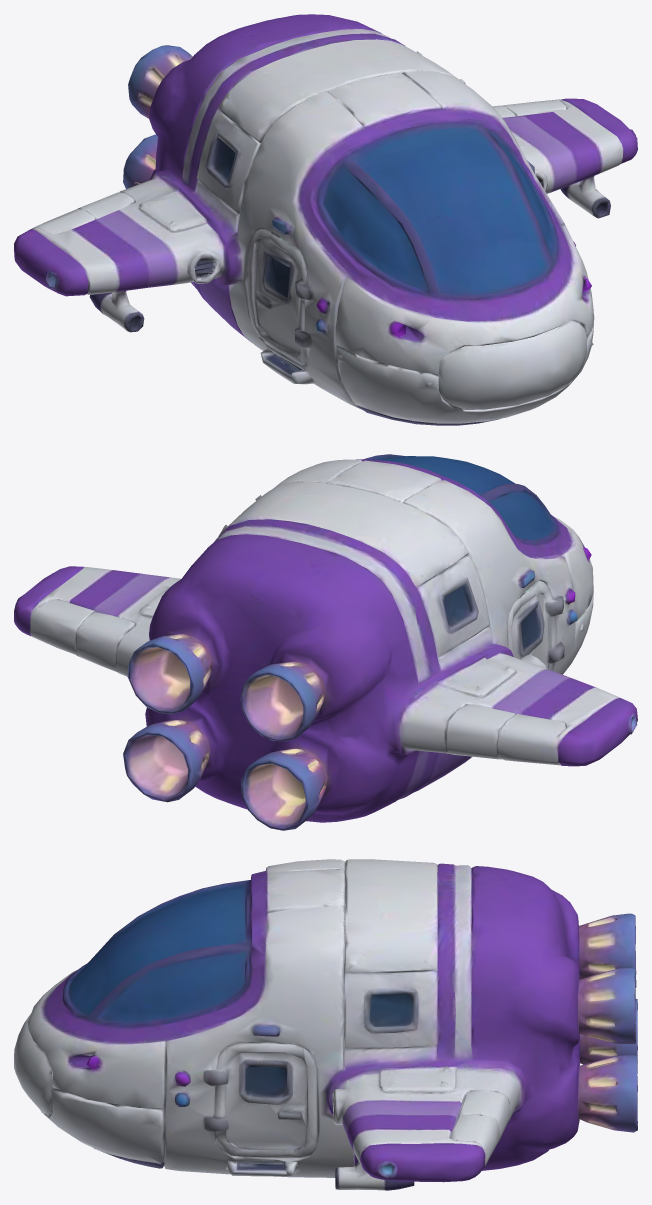
File: shuttle.glb
The picture shows the model from 3 angles, top to bottom: view 1: azimuth 30°, elevation 25°; view 2: azimuth 150°, elevation 25°; view 3: azimuth 270°, elevation 25°; orthographic projection.
Parts seen in each view (by area): view 1: tripo_node_3bae8448-64a5-4a9b-b6b8-6f1c2ca67bd2; view 2: tripo_node_3bae8448-64a5-4a9b-b6b8-6f1c2ca67bd2; view 3: tripo_node_3bae8448-64a5-4a9b-b6b8-6f1c2ca67bd2.
Boxes of the visible parts, box(x1,y1,x2,y2) form: tripo_node_3bae8448-64a5-4a9b-b6b8-6f1c2ca67bd2: box(14, 14, 637, 425); tripo_node_3bae8448-64a5-4a9b-b6b8-6f1c2ca67bd2: box(14, 454, 637, 830); tripo_node_3bae8448-64a5-4a9b-b6b8-6f1c2ca67bd2: box(14, 859, 637, 1190).
Bounding box in the file's own units: 0.9803 × 0.4245 × 0.9147.
Materials: 1 (1 with a texture image).
